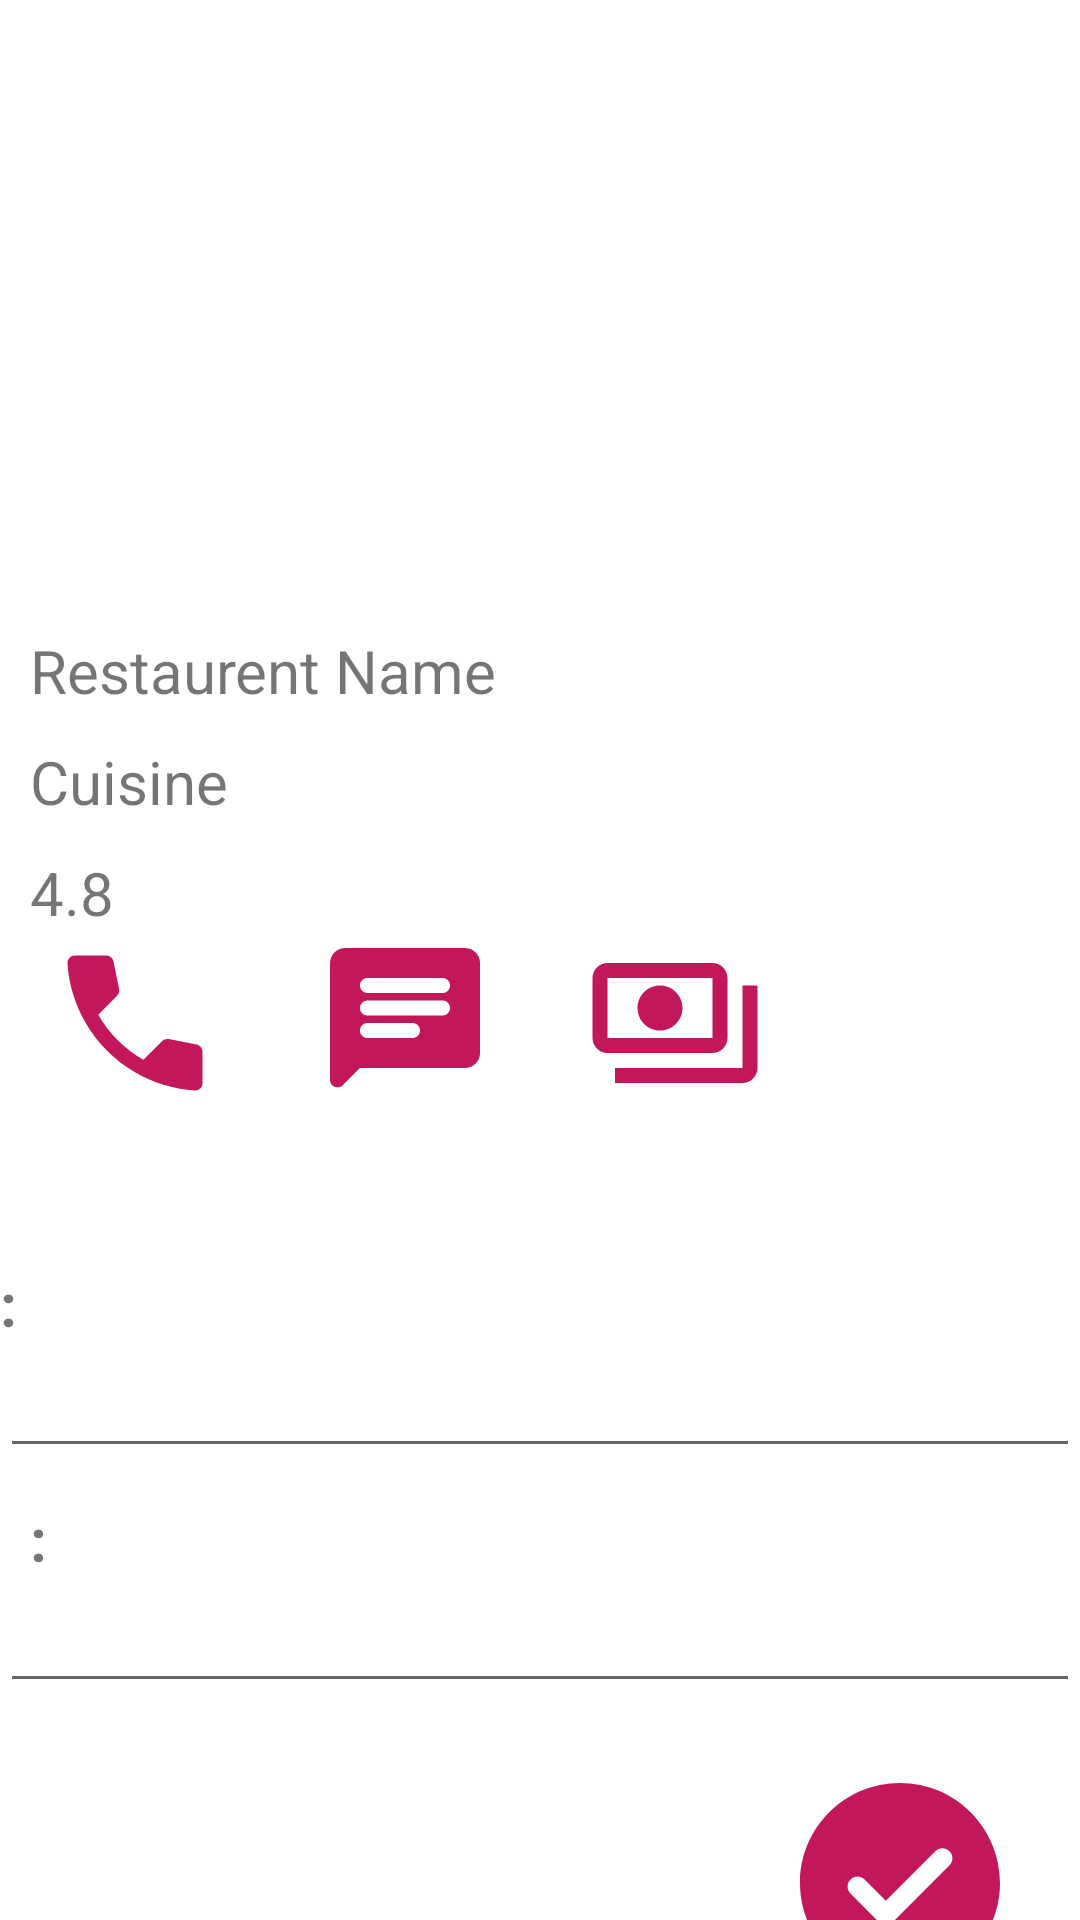

Where icons sit on this 1080w x 1920h app screen, as (x1, y1, x2, y2):
call: (67, 955, 203, 1091)
chat: (330, 948, 480, 1088)
payments: (592, 963, 758, 1083)
